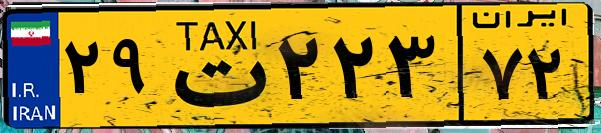2: (270, 28, 330, 110), (330, 28, 385, 110), (57, 26, 110, 100), (525, 38, 570, 115)
3: (385, 28, 445, 110)
7: (475, 38, 525, 113)
9: (110, 28, 158, 98)
ت: (158, 12, 270, 120)
